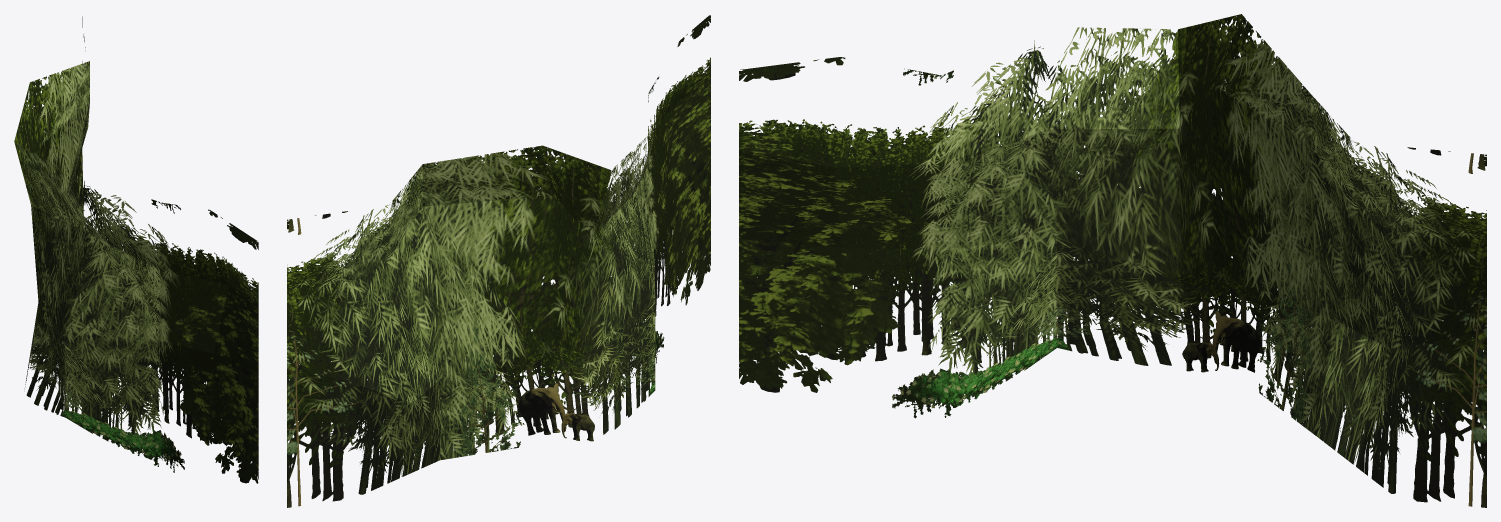
Rendered from JungleSurroundings4.fbx.
3 views of the same model, side by side, from view 1: azimuth 30°, elevation 25°; view 2: azimuth 150°, elevation 25°; view 3: azimuth 270°, elevation 25° (orthographic). The views are drawn at different scales.
Parts seen in each view (by area): view 1: Plane.004; view 2: Plane.004; view 3: Plane.004.
Boxes of the visible parts, x1=… form: Plane.004: x1=14, y1=16, x2=258, y2=483; Plane.004: x1=287, y1=15, x2=710, y2=507; Plane.004: x1=739, y1=14, x2=1486, y2=507.
Bounding box in the file's own units: 39.09 × 63.36 × 104.
